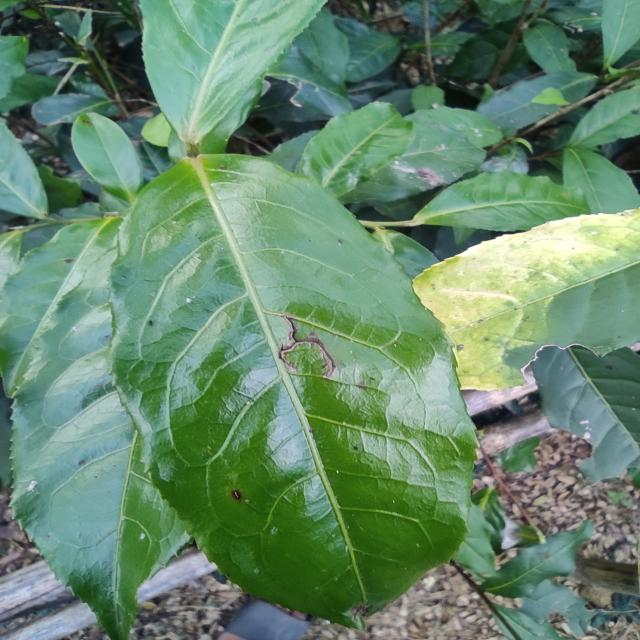Category D(7+ days, Not for Tea): (83, 147, 510, 630)
